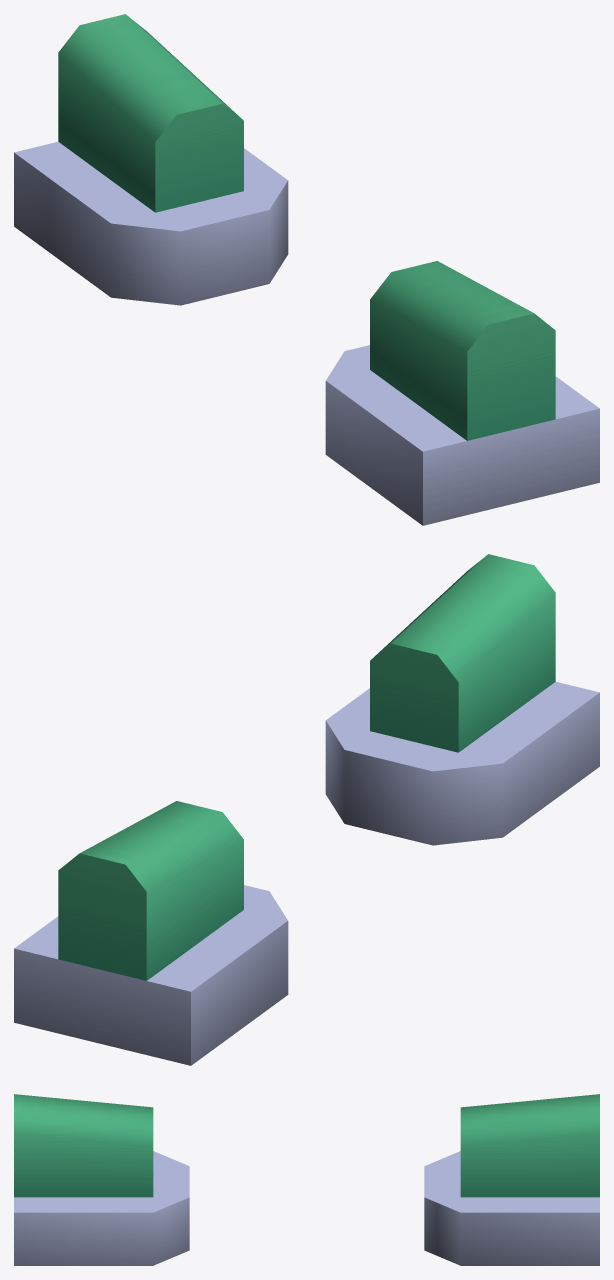
File: hedge-gate.fbx
The picture shows the model from 3 angles, top to bottom: view 1: azimuth 30°, elevation 25°; view 2: azimuth 150°, elevation 25°; view 3: azimuth 270°, elevation 25°; orthographic projection. The views are drawn at different scales.
Parts seen in each view (by area): view 1: hedge-gate; view 2: hedge-gate; view 3: hedge-gate.
Part boxes in pixels (x1,y1,x2,y2): hedge-gate: (14,14,599,525); hedge-gate: (14,554,599,1065); hedge-gate: (14,1094,599,1265).
Bounding box in the file's own units: 25 × 25 × 100.
1 material, 1 textured.
